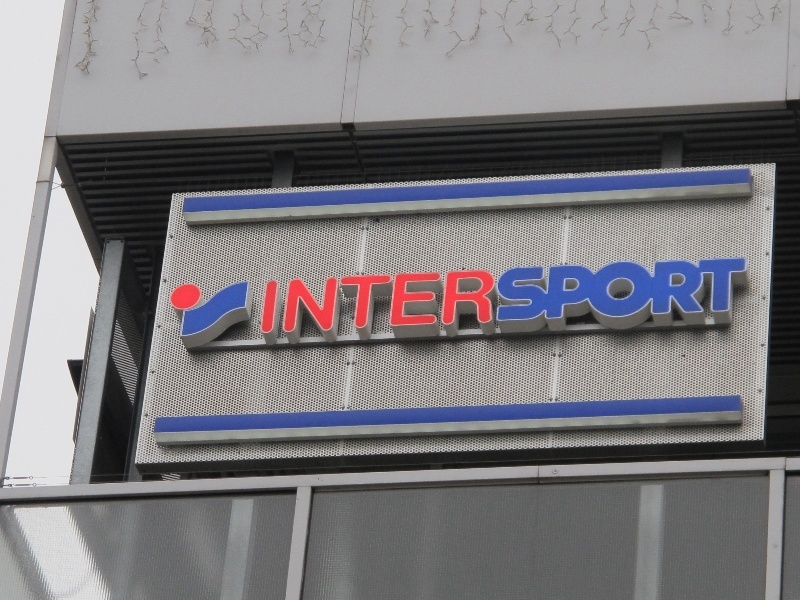text: (273, 255, 288, 348), (289, 255, 304, 348), (305, 255, 320, 348), (321, 255, 336, 348), (337, 255, 352, 348), (353, 255, 368, 348), (369, 255, 384, 348), (385, 255, 400, 348), (401, 255, 416, 348), (417, 255, 432, 348), (433, 255, 448, 348), (449, 255, 464, 348), (465, 255, 480, 348), (481, 255, 496, 348), (497, 255, 512, 348), (513, 255, 528, 348), (529, 255, 544, 348), (545, 255, 560, 348), (561, 255, 576, 348), (577, 255, 592, 348), (593, 255, 608, 348), (609, 255, 624, 348), (625, 255, 640, 348), (641, 255, 656, 348), (657, 255, 672, 348), (673, 255, 688, 348), (689, 255, 704, 348), (705, 255, 720, 348), (721, 255, 736, 348), (737, 255, 751, 348), (264, 255, 272, 348)
